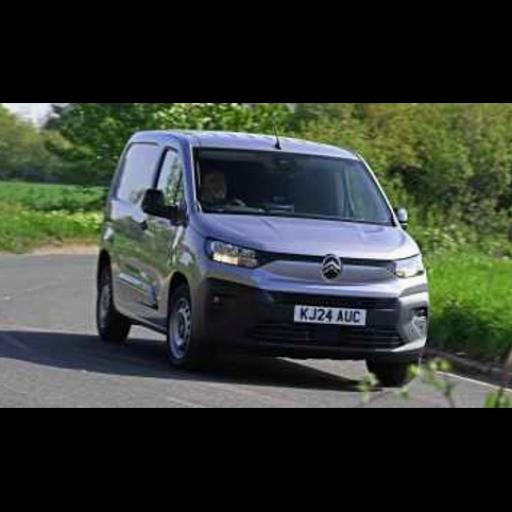van: (97, 133, 427, 385)
